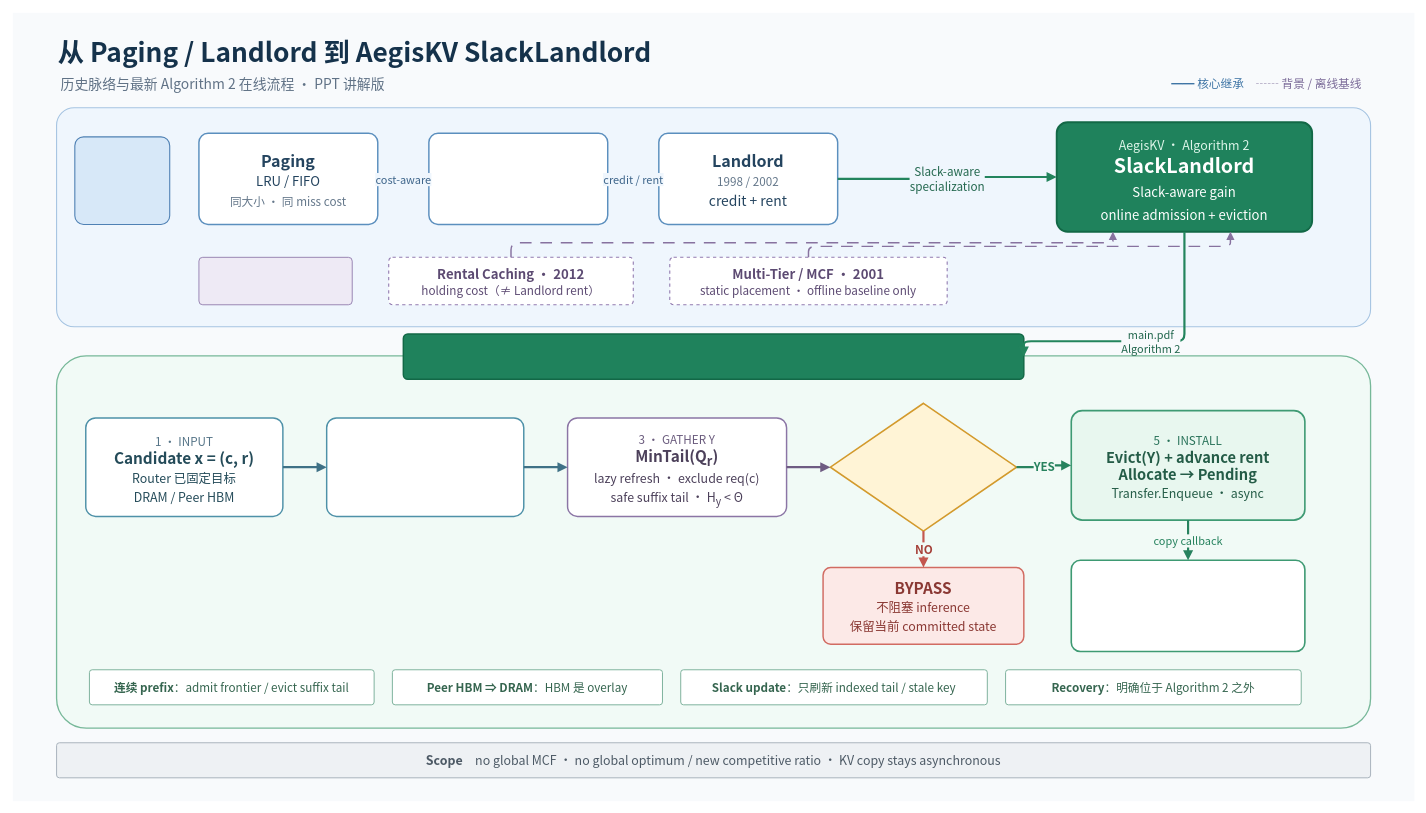
This 1426x813 diagram has some shape labels left out. The shapes that lost their labels are listed below. From the top down, each one's centre as x and y in pixels, then its label:
At point (122, 180): "历史来源 核心路线".
At point (518, 178): "GreedyDual-Size 1997 cost / byte".
At point (275, 281): "相邻脉络 不是在线 Algorithm 2".
At point (713, 356): "最新 Algorithm 2：对一个已选定目标的候选 x = (c, r) 做在线 admission".
At point (425, 467): "2 · SCORE A = Gain(x, t) Θ = L r + A / b c Slack-visible recovery gain".
At point (923, 467): "4 · ADMISSION GATE 空间已凑够？ A > Loss(Y)？".
At point (1187, 605): "OnCopyDone AllAck ∧ Valid → Committed + Q r .insert otherwise → Aborted + Free".
